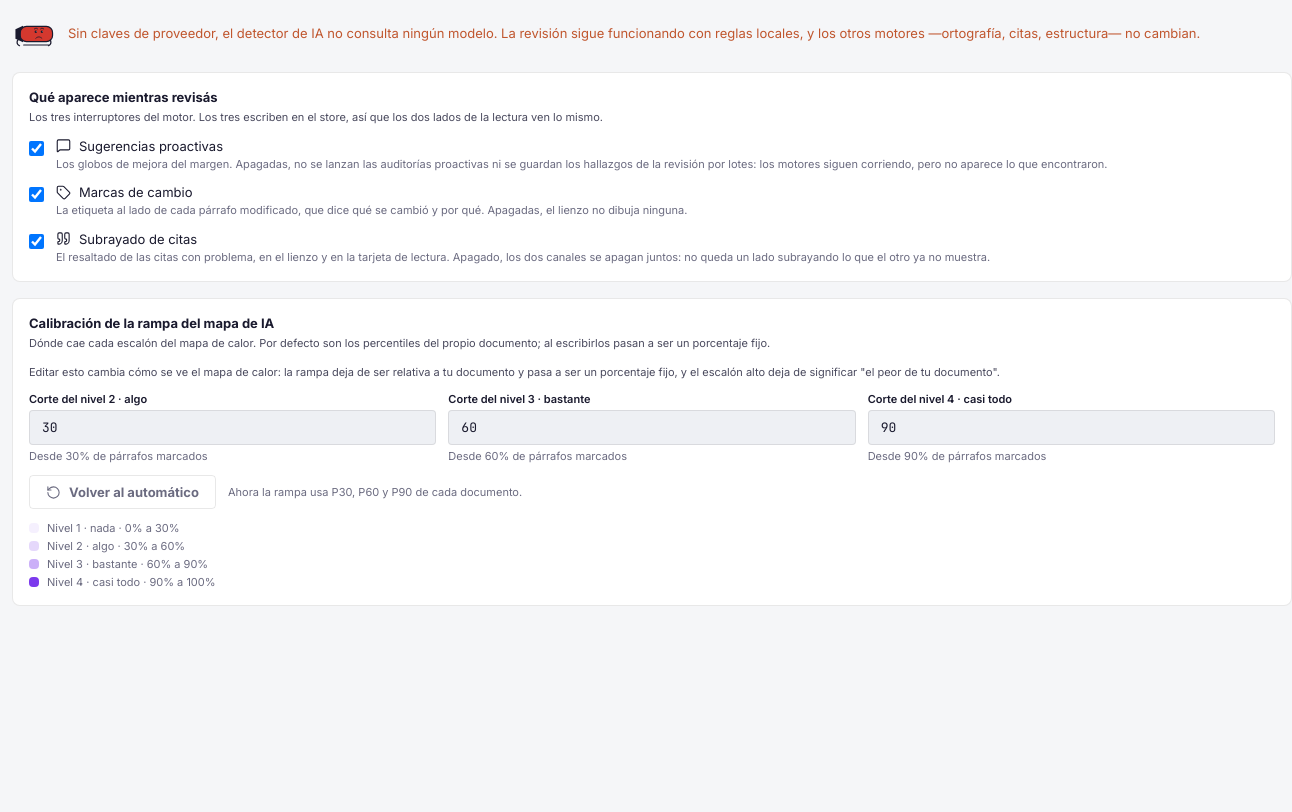
Test: Revisión — la calibración de la rampa › CON LOS TRES CORTES EN 95 DICE CUÁNTOS ESCALONES QUEDAN, y no lo afirma a ciegas
Replace the text in the number field labelled "Corte del nivel 2 · algo" with "95". click: (233, 428)
box: [29,410,436,445]
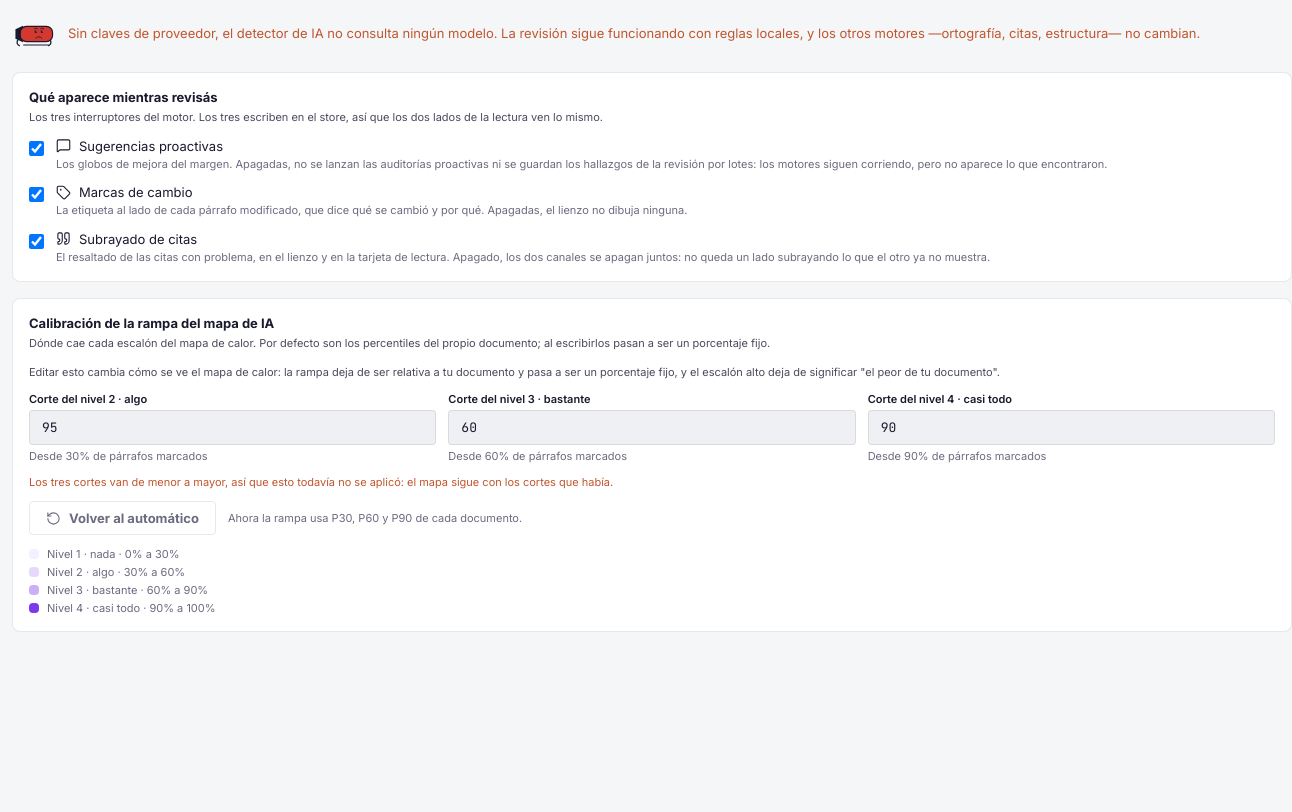
Replace the text in the number field labelled "Corte del nivel 3 · bastante" with "95". click: (652, 428)
box: [448,410,856,445]
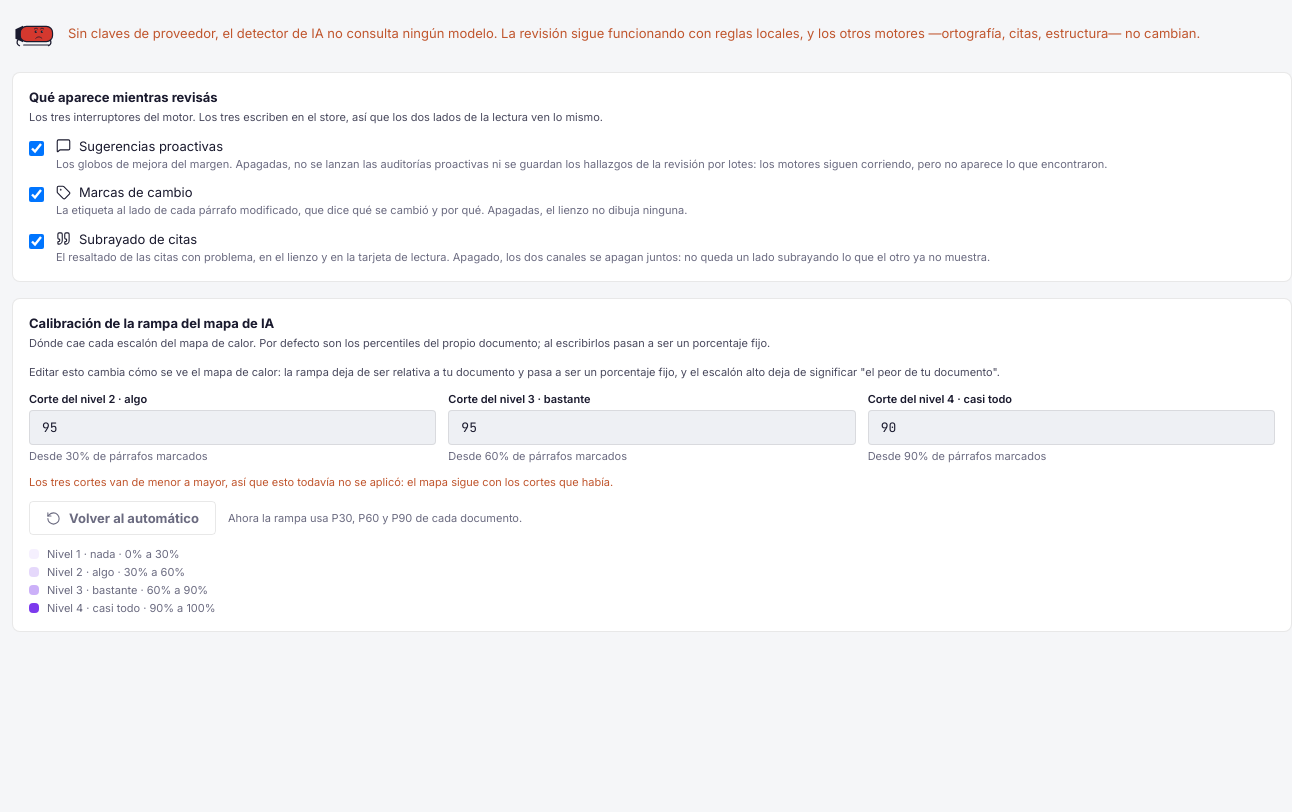
Replace the text in the number field labelled "Corte del nivel 4 · casi todo" with "95". click: (1071, 428)
box: [868,410,1275,445]
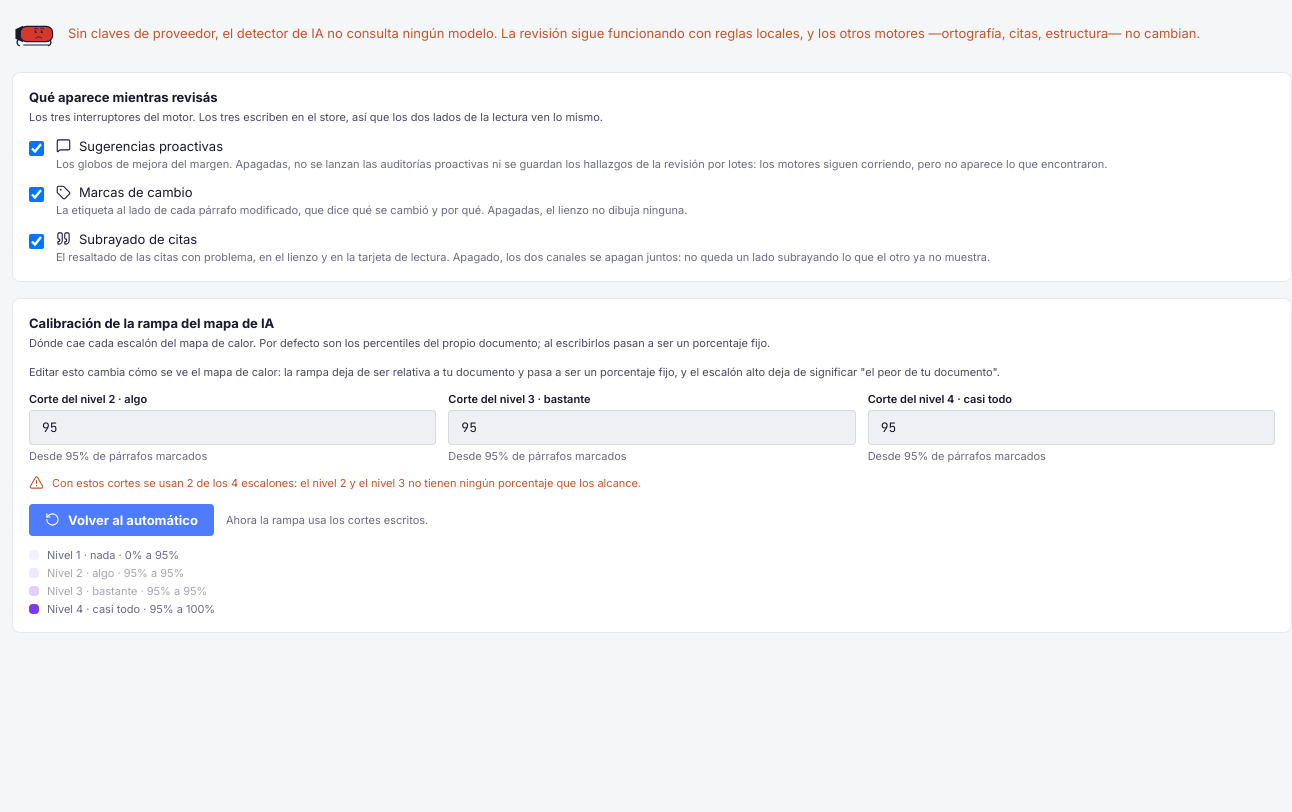
Expected: the element with test id "cortes-sin-escalon" shows "2 de los 4 escalones", [52,476,641,490]
Expected: the element with test id "cortes-sin-escalon" shows "el nivel 2 y el nivel 3 no tienen", [52,476,641,490]
